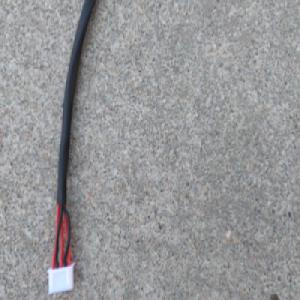Wire: (45, 0, 99, 297)
